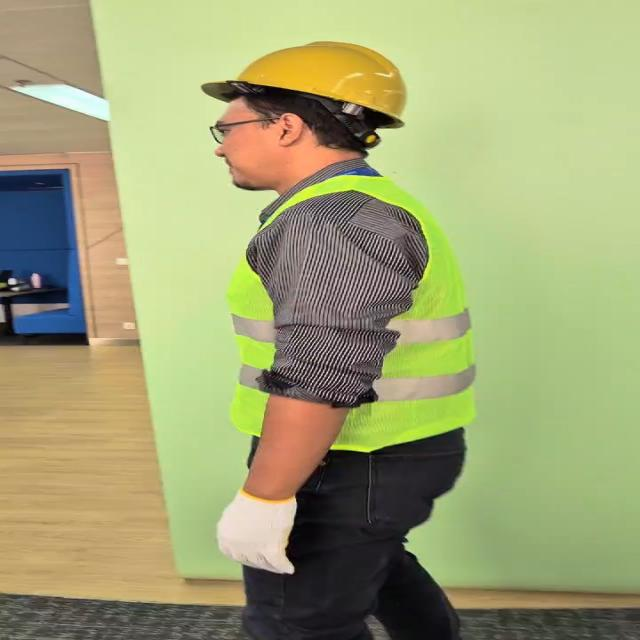gloves: (216, 486, 299, 575)
goggles: (208, 118, 281, 144)
helmet: (207, 42, 410, 126)
safety_vest: (227, 180, 476, 450)
